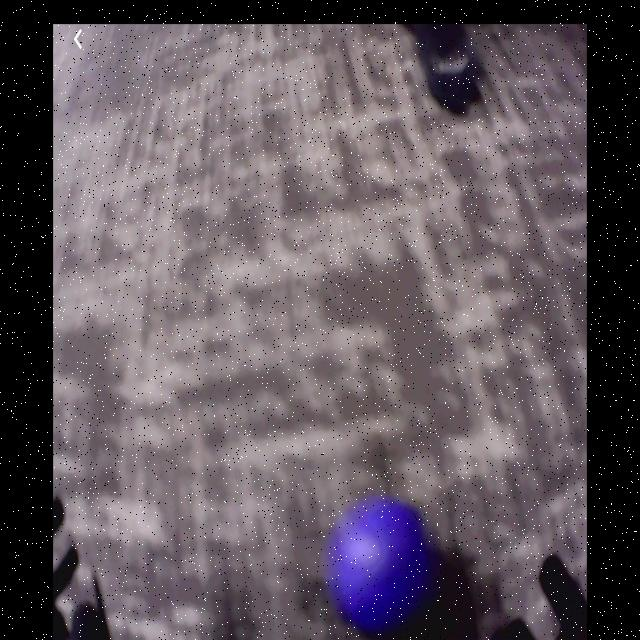ball: (335, 504, 433, 633)
